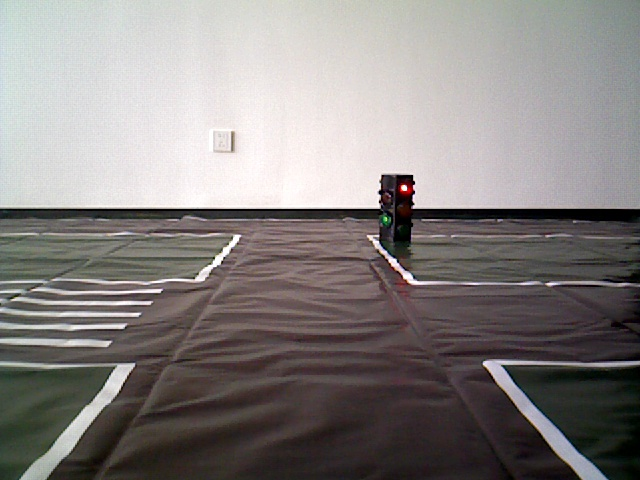red: (379, 178, 412, 248)
